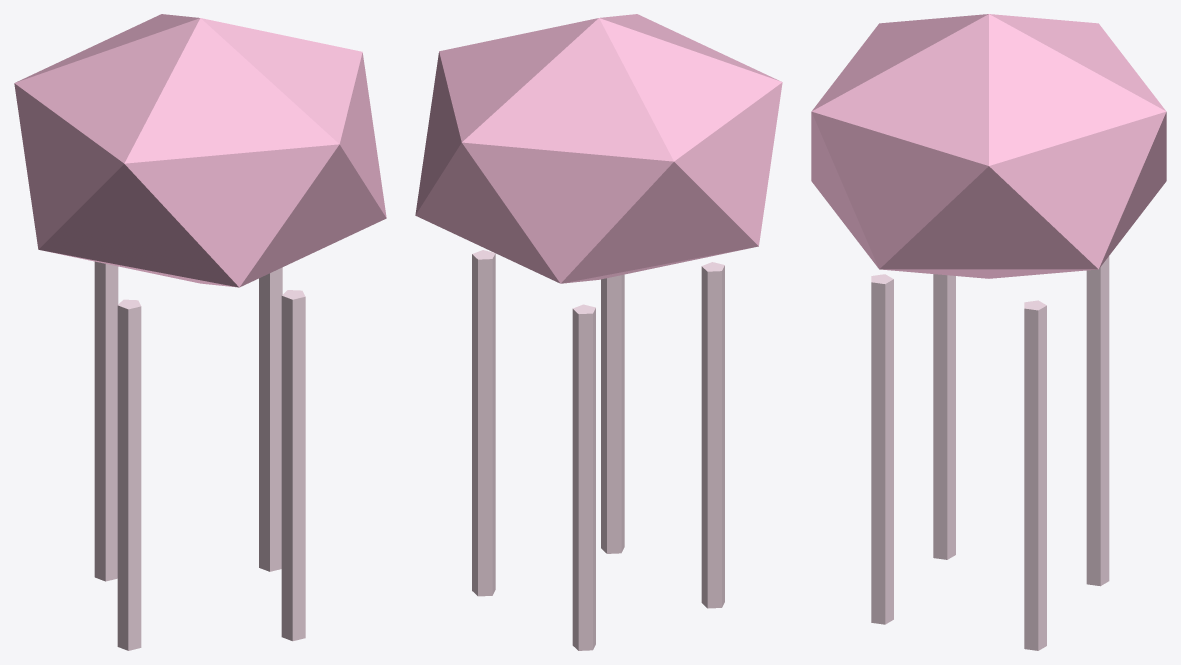
File: Jellyfish.fbx
3 views of the same model, side by side, from view 1: azimuth 30°, elevation 25°; view 2: azimuth 150°, elevation 25°; view 3: azimuth 270°, elevation 25° (orthographic).
Visible parts, largest first — view 1: Body, Limb_Tent3, Limb_Tent4, Limb_Tent2, Limb_Tent1; view 2: Body, Limb_Tent3, Limb_Tent1, Limb_Tent2, Limb_Tent4; view 3: Body, Limb_Tent1, Limb_Tent4, Limb_Tent2, Limb_Tent3.
Part boxes in pixels (box(x1,y1,x2,y2)): Body: box(14, 14, 386, 287); Limb_Tent3: box(117, 299, 141, 650); Limb_Tent4: box(281, 290, 305, 641); Limb_Tent2: box(94, 261, 118, 581); Limb_Tent1: box(259, 267, 282, 571); Body: box(415, 14, 782, 283); Limb_Tent3: box(701, 262, 724, 608); Limb_Tent1: box(472, 250, 495, 596); Limb_Tent2: box(572, 304, 595, 650); Limb_Tent4: box(601, 274, 624, 553); Body: box(811, 14, 1166, 278); Limb_Tent1: box(1024, 300, 1046, 650); Limb_Tent4: box(871, 274, 893, 624); Limb_Tent2: box(1086, 256, 1109, 586); Limb_Tent3: box(933, 274, 955, 559).
Bounding box in the file's own units: 0.8944 × 1.55 × 0.8506.
